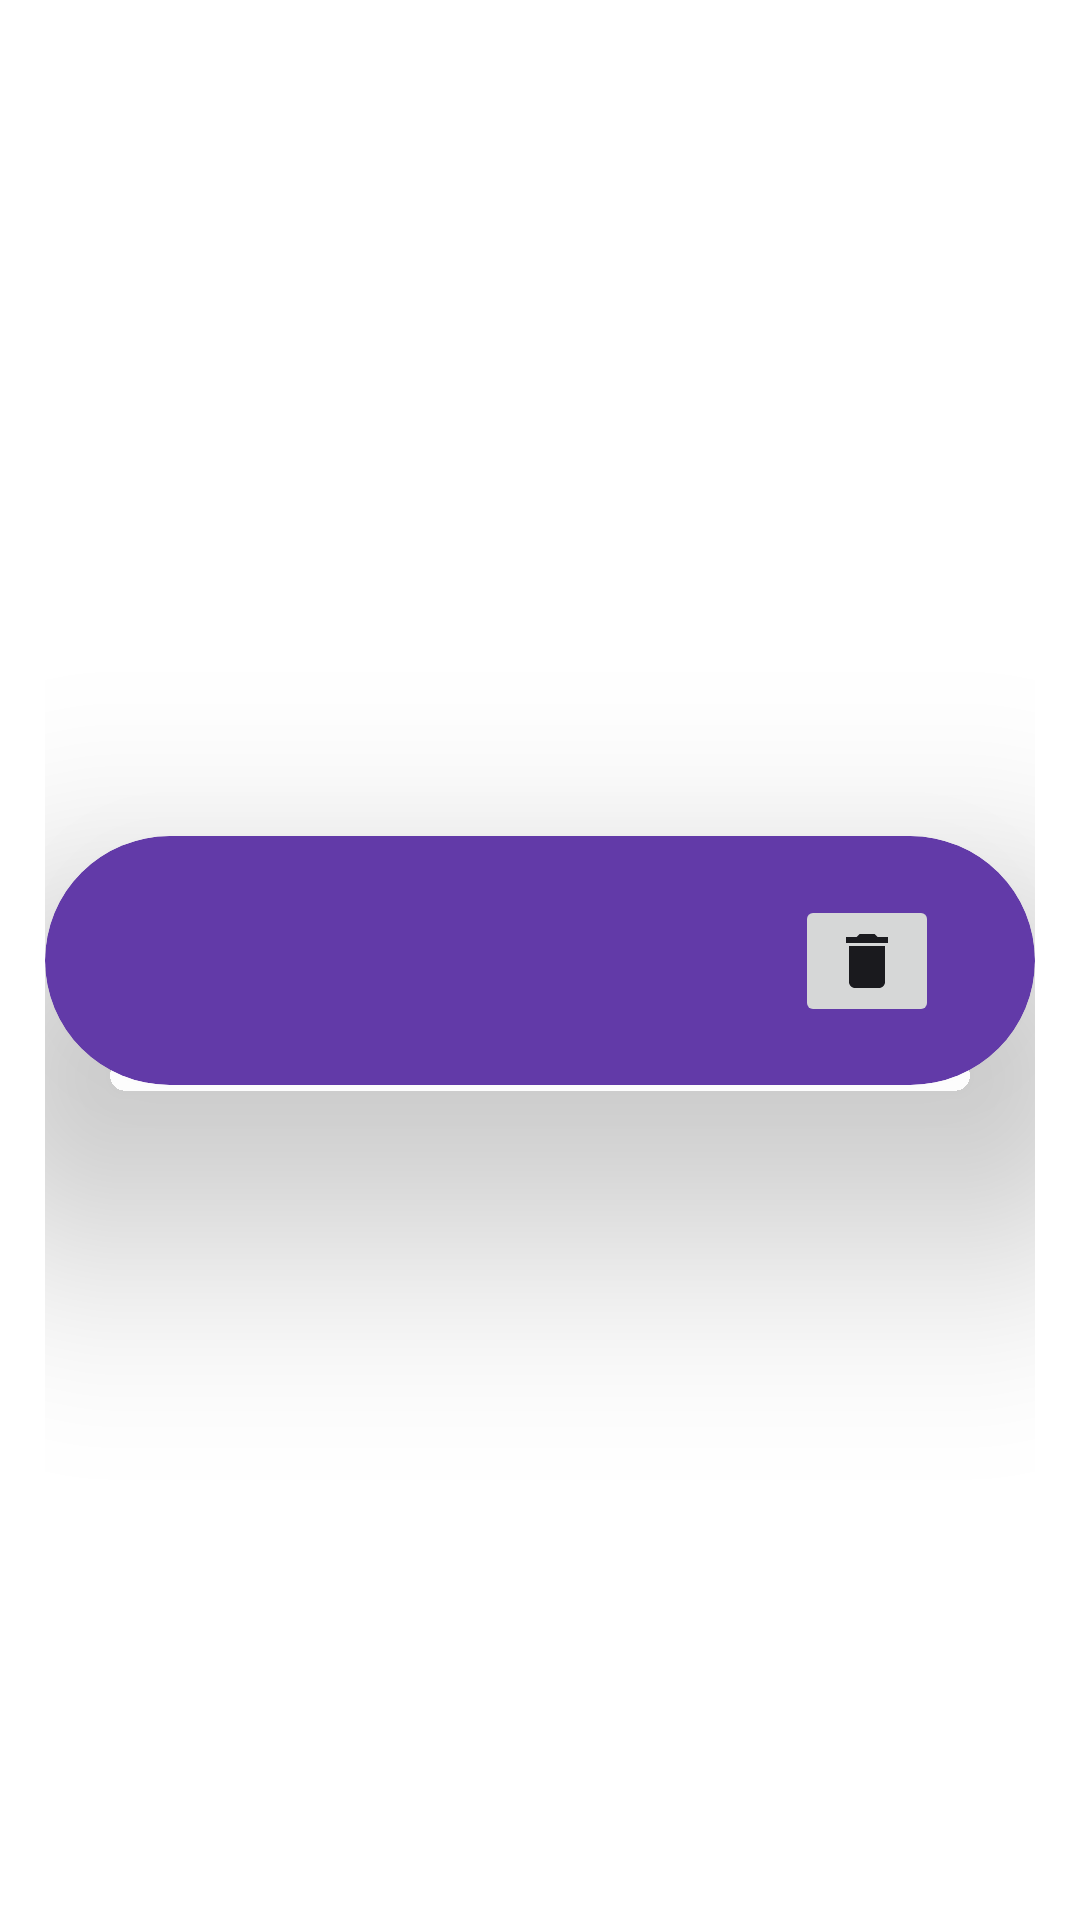

Point at icon controls on the screen. Image size 1080*1920, points as (x,y).
delete: (867,961)
